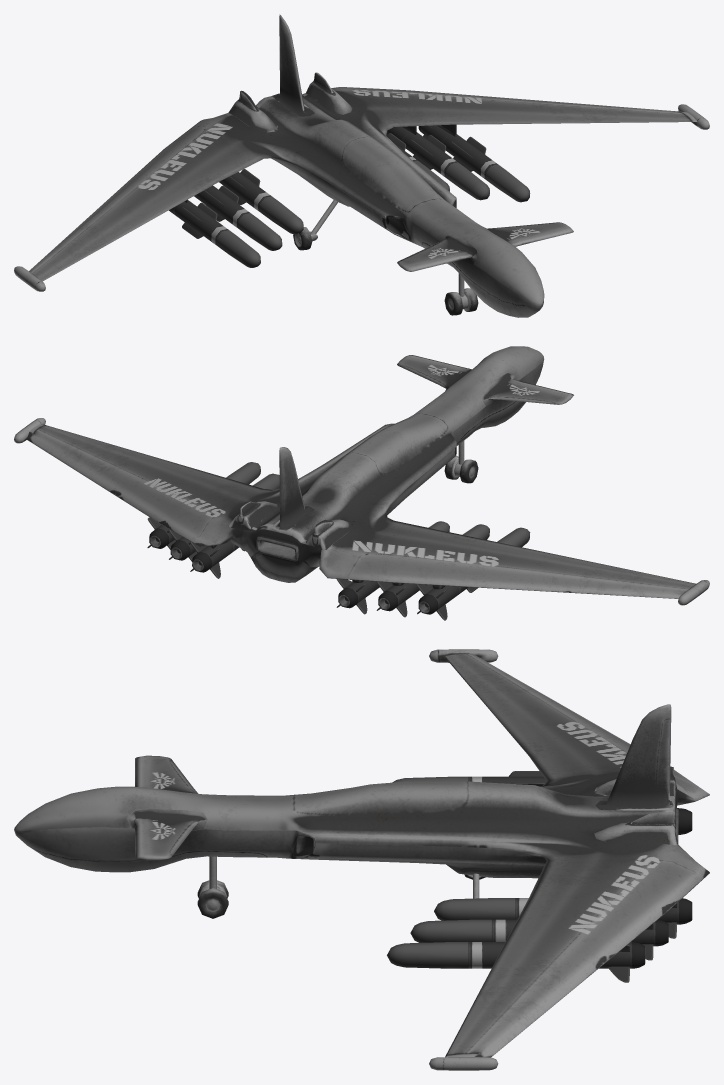
3 views of the same model, one above another, from view 1: azimuth 30°, elevation 25°; view 2: azimuth 150°, elevation 25°; view 3: azimuth 270°, elevation 25° (orthographic). The views are drawn at different scales.
Visible parts, largest first — view 1: SF Bomber Drone_0, SF Bomber Missile.002_3, SF Bomber Missile.001_2, SF Bomber Missile.005_6, SF Bomber Missile.004_5, SF Bomber Missile.003_4; view 2: SF Bomber Drone_0, SF Bomber Missile.005_6, SF Bomber Missile.004_5, SF Bomber Missile.003_4, SF Bomber Missile.002_3, SF Bomber Missile_1, SF Bomber Missile.001_2; view 3: SF Bomber Drone_0, SF Bomber Missile.002_3, SF Bomber Missile.001_2, SF Bomber Missile_1, SF Bomber Missile.005_6.
Boxes of the visible parts, left/top/right/bottom form: SF Bomber Drone_0: left=14, top=14, right=709, bottom=317; SF Bomber Missile.002_3: left=418, top=125, right=530, bottom=202; SF Bomber Missile.001_2: left=386, top=126, right=489, bottom=200; SF Bomber Missile.005_6: left=169, top=200, right=260, bottom=267; SF Bomber Missile.004_5: left=194, top=185, right=282, bottom=250; SF Bomber Missile.003_4: left=219, top=169, right=303, bottom=234; SF Bomber Drone_0: left=14, top=346, right=709, bottom=605; SF Bomber Missile.005_6: left=416, top=527, right=530, bottom=620; SF Bomber Missile.004_5: left=376, top=524, right=489, bottom=617; SF Bomber Missile.003_4: left=336, top=521, right=449, bottom=614; SF Bomber Missile.002_3: left=147, top=462, right=260, bottom=549; SF Bomber Missile_1: left=190, top=542, right=244, bottom=578; SF Bomber Missile.001_2: left=169, top=473, right=279, bottom=561; SF Bomber Drone_0: left=14, top=649, right=709, bottom=1070; SF Bomber Missile.002_3: left=387, top=942, right=645, bottom=982; SF Bomber Missile.001_2: left=410, top=919, right=668, bottom=960; SF Bomber Missile_1: left=434, top=898, right=692, bottom=938; SF Bomber Missile.005_6: left=392, top=771, right=546, bottom=786.
Size of the model in its own units: 27.91 by 6.57 by 19.85.
Materials: 2 (2 with a texture image).
